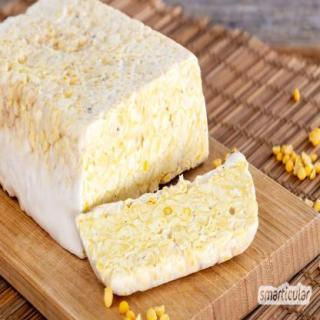Tempe: (1, 1, 260, 299)
